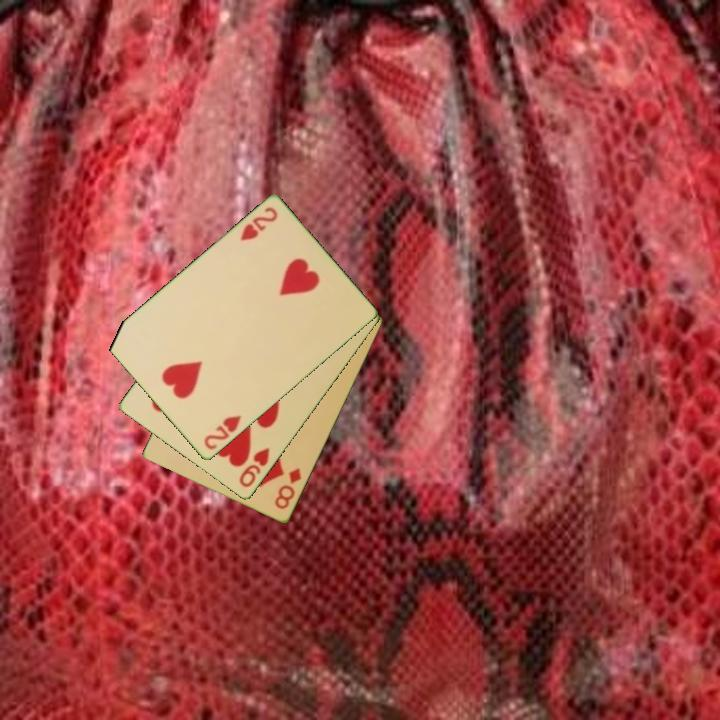2h: (200, 412, 244, 453), (236, 204, 281, 244)
8d: (271, 464, 304, 513)
9h: (236, 444, 273, 491)
